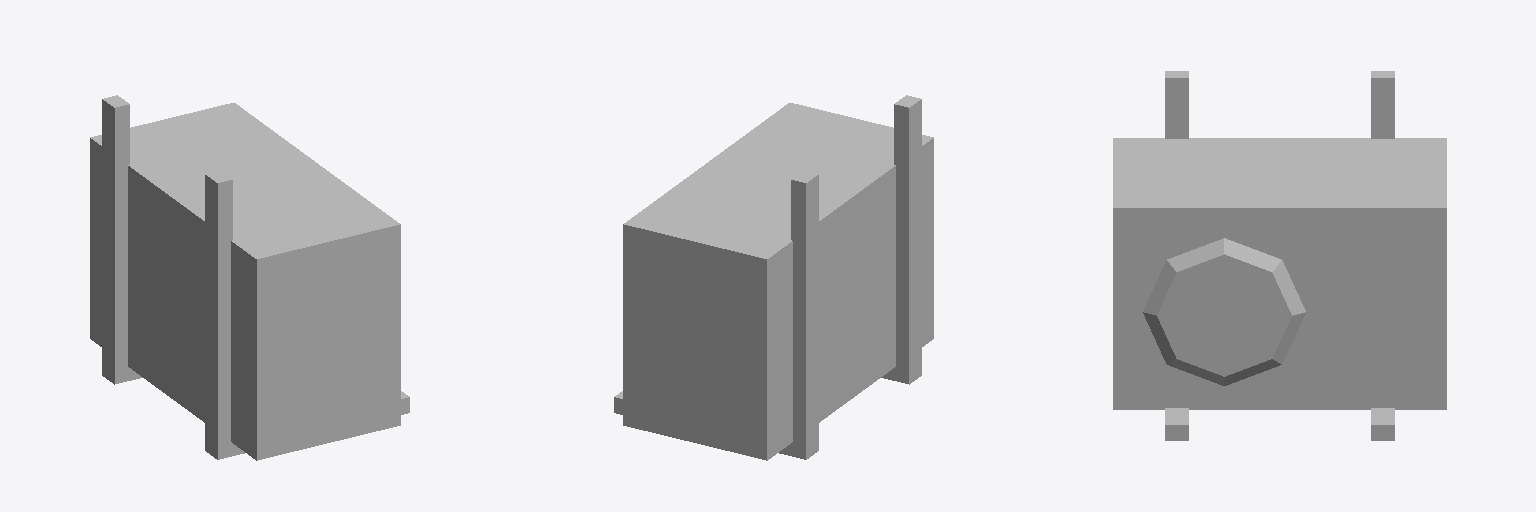
The model's file is Air_Conditioning.obj.
3 renders of one model, left to right at view 1: azimuth 30°, elevation 25°; view 2: azimuth 150°, elevation 25°; view 3: azimuth 270°, elevation 25°, orthographic.
Visible parts, largest first — view 1: Air_Conditioning_Plane.147; view 2: Air_Conditioning_Plane.147; view 3: Air_Conditioning_Plane.147.
Part boxes in pixels (x1,y1,x2,y2): Air_Conditioning_Plane.147: (90, 95, 409, 460); Air_Conditioning_Plane.147: (614, 95, 933, 460); Air_Conditioning_Plane.147: (1113, 71, 1446, 440).
Bounding box in the file's own units: 0.5 × 0.6875 × 0.75.